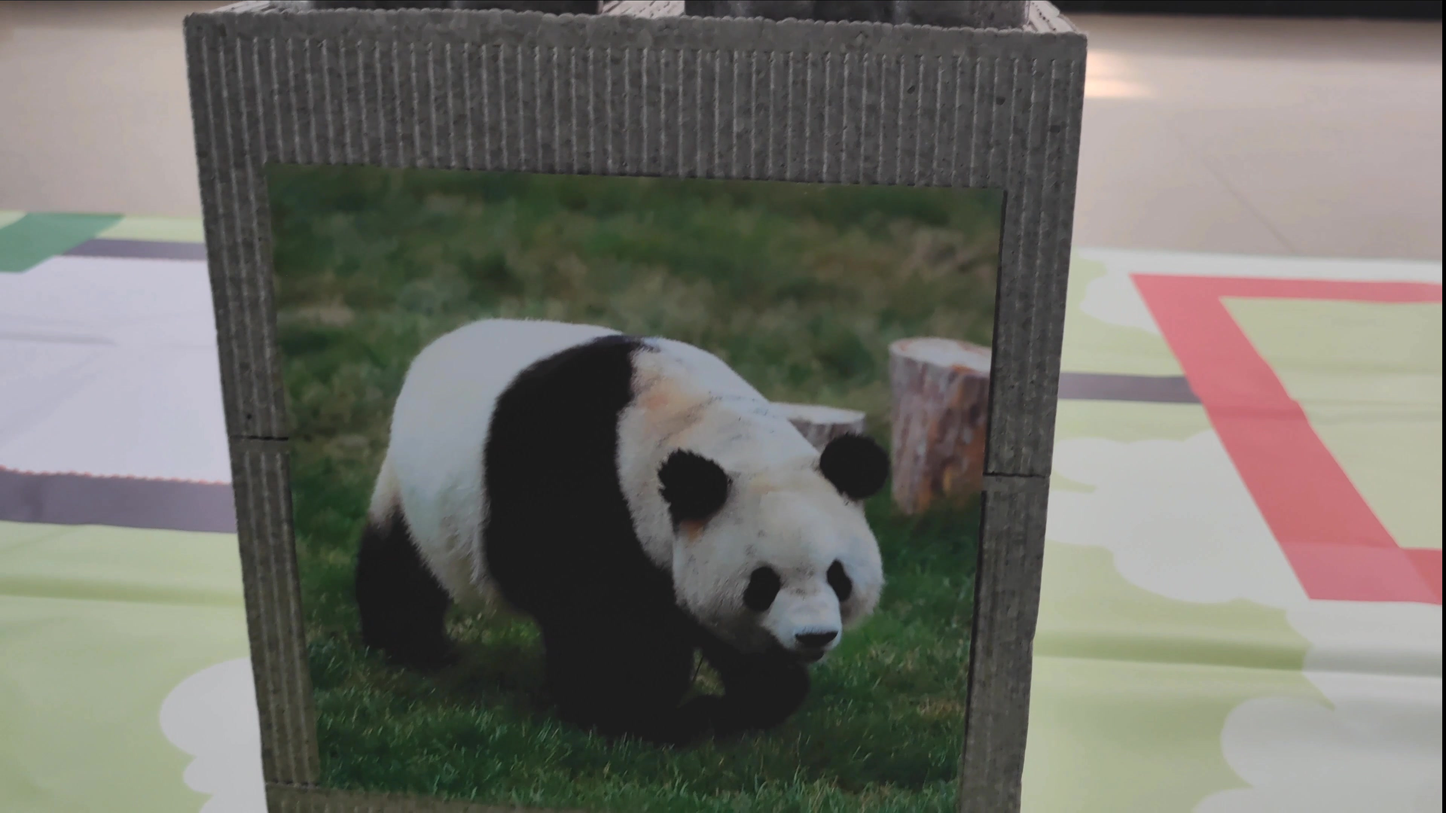panda: (339, 264, 878, 724)
